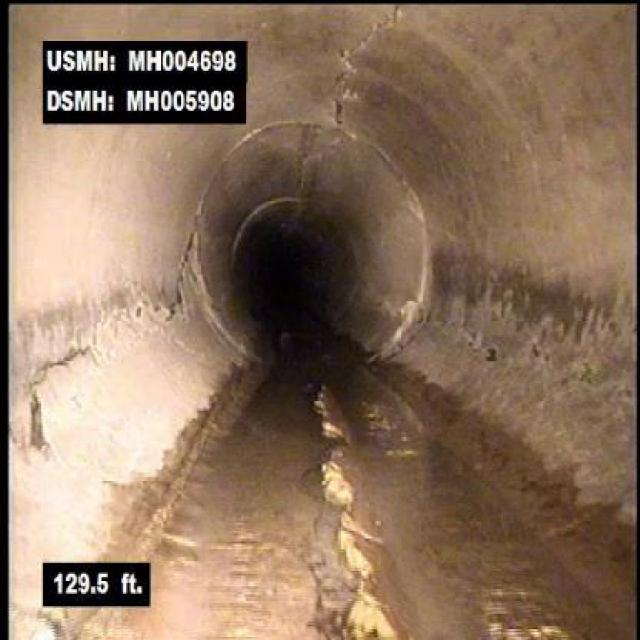Buckling: (309, 398, 403, 638)
Crack: (17, 337, 97, 457), (331, 9, 411, 125)
